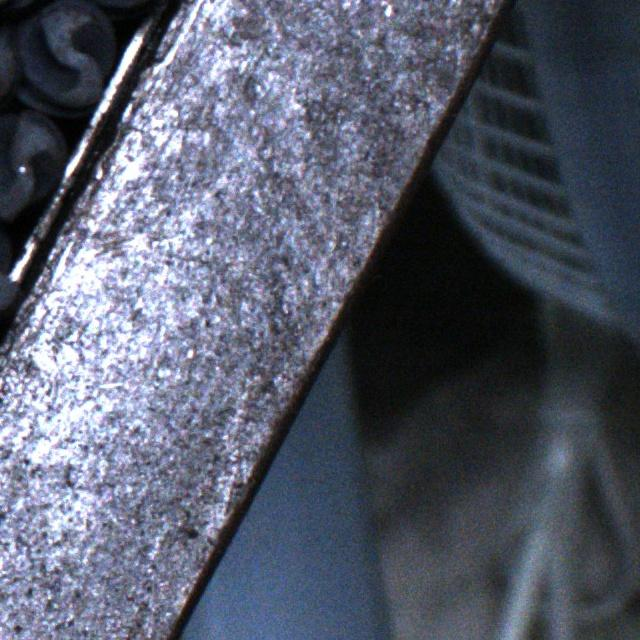tool_b: (12, 0, 114, 118), (0, 108, 64, 220)
